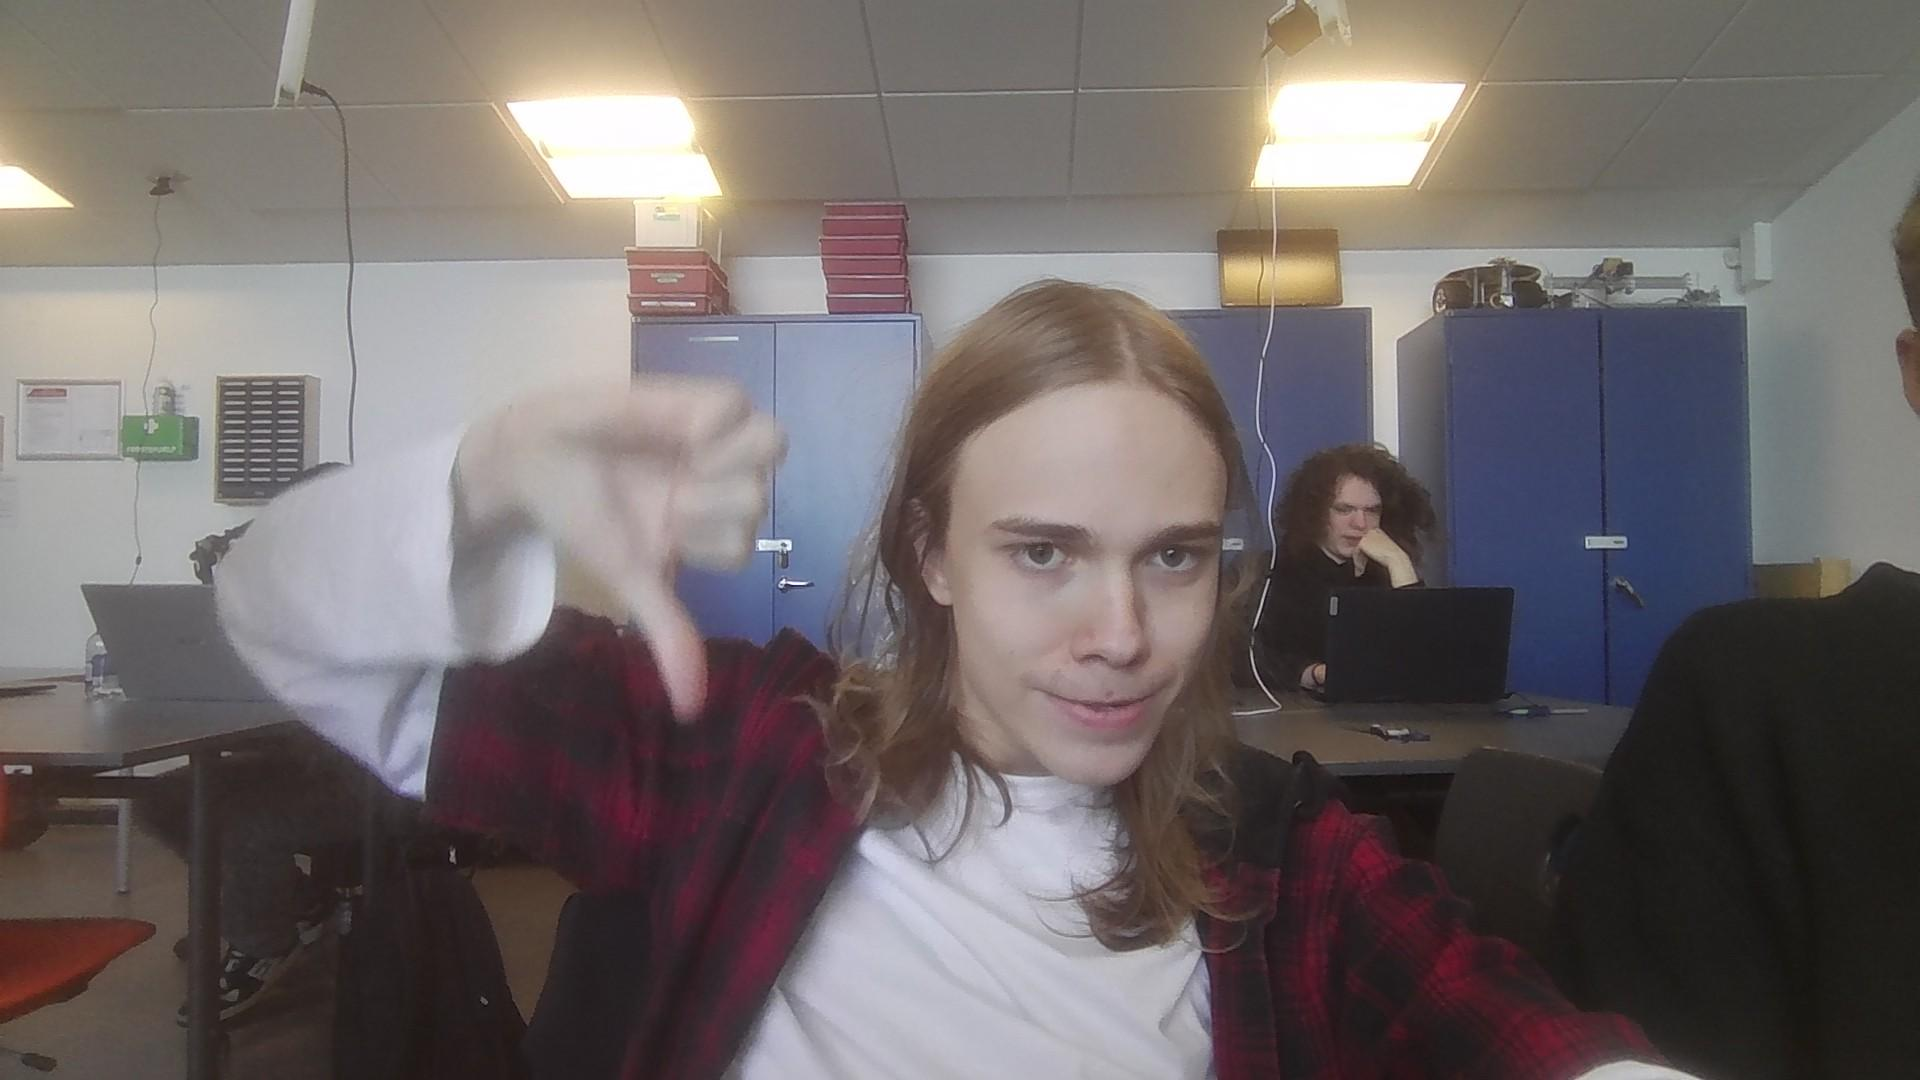thumbs down: (522, 371, 795, 728)
